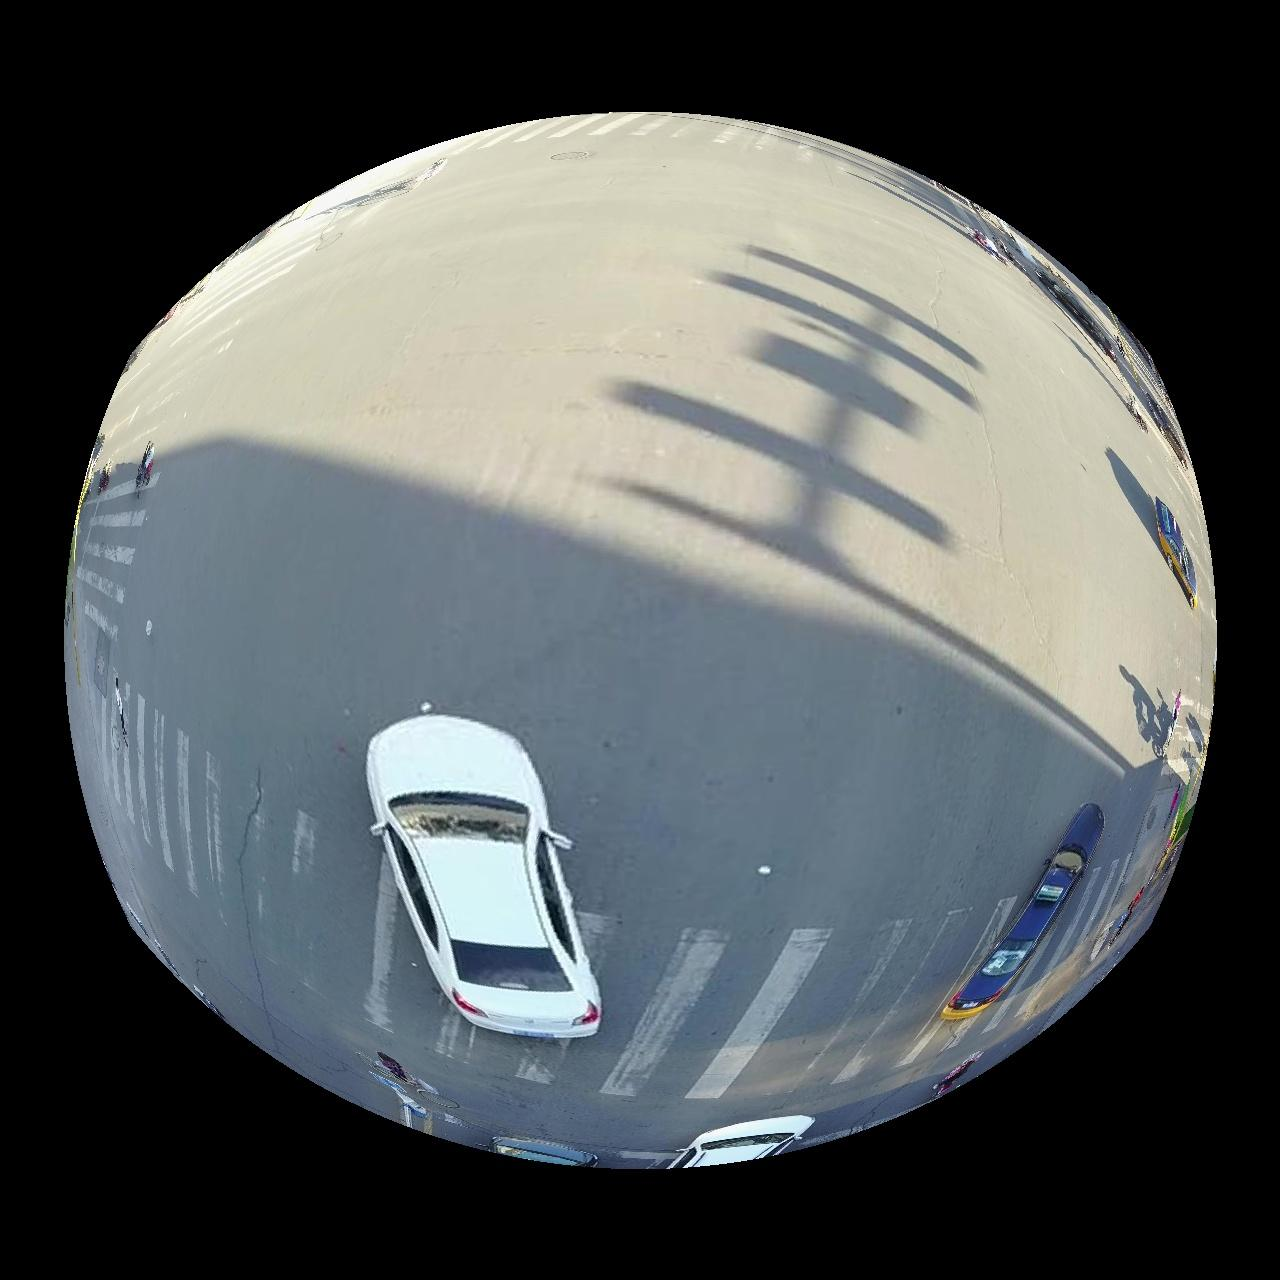cars: (366, 715, 601, 1041), (942, 805, 1107, 1022)
